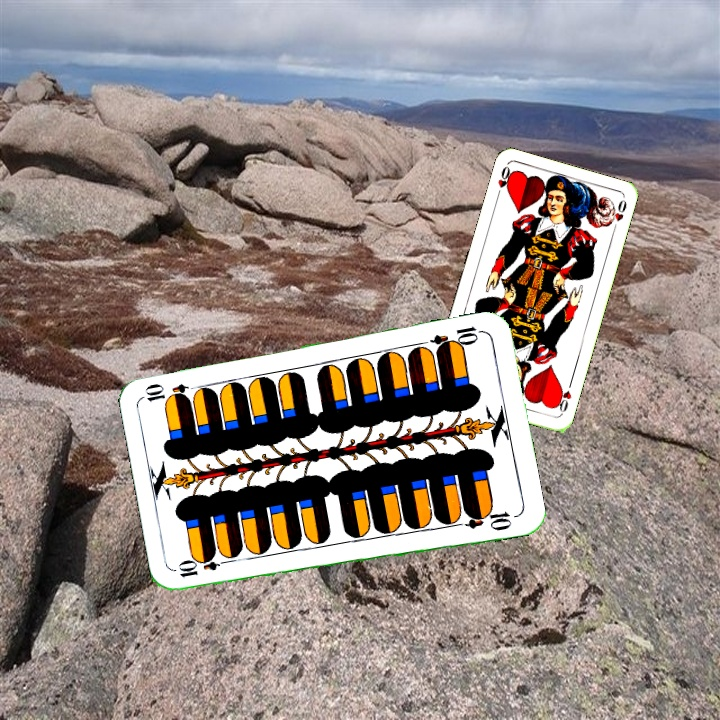E10: (427, 322, 486, 354), (174, 553, 233, 580)
HO: (552, 377, 575, 417), (492, 162, 514, 202)
